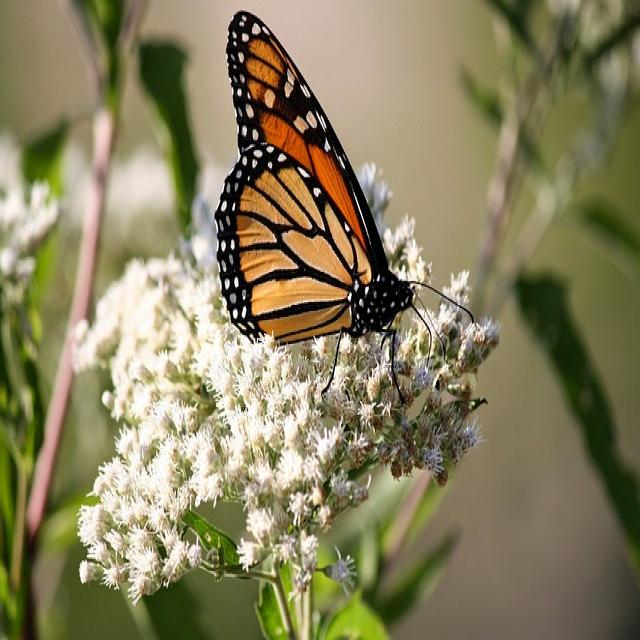butterfly: (214, 12, 421, 350)
